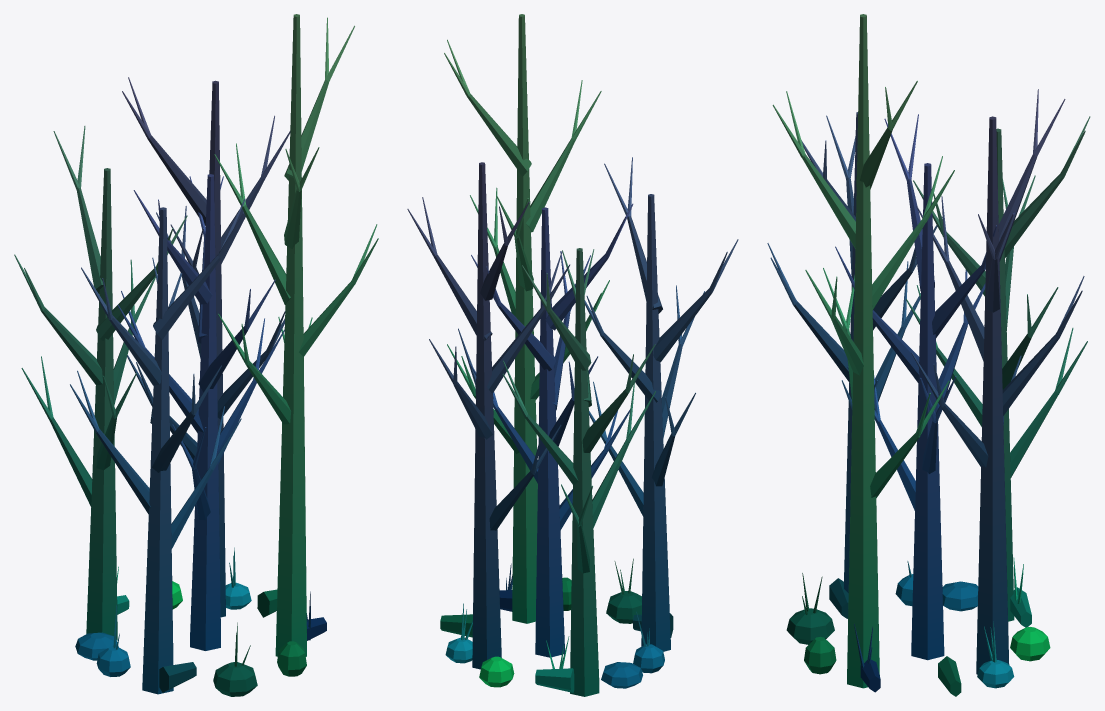
File: charred_02.glb
The picture shows the model from 3 angles, left to right: view 1: azimuth 30°, elevation 25°; view 2: azimuth 150°, elevation 25°; view 3: azimuth 270°, elevation 25°; orthographic projection. The views are drawn at different scales.
Parts seen in each view (by area): view 1: charred_02.002; view 2: charred_02.002; view 3: charred_02.002.
Part boxes in pixels (bbox=[...]): charred_02.002: bbox=[14, 14, 378, 696]; charred_02.002: bbox=[407, 14, 738, 696]; charred_02.002: bbox=[767, 14, 1090, 696].
Size of the model in its own units: 0.94 by 2 by 0.8764.
